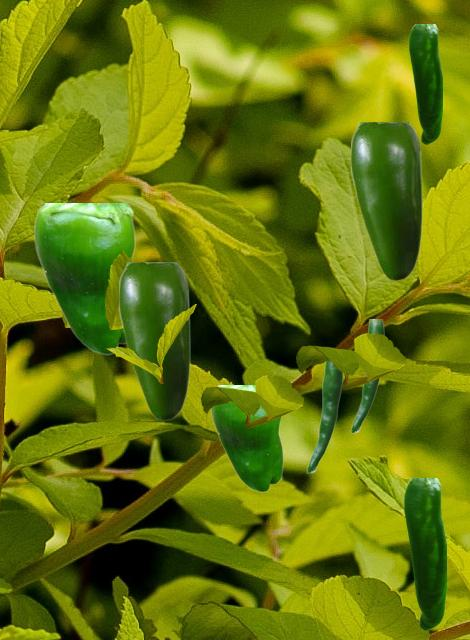green_chili: (33, 203, 136, 354), (351, 122, 421, 280), (119, 262, 189, 420), (210, 385, 282, 491), (404, 478, 445, 629), (306, 361, 341, 472), (409, 24, 441, 143), (350, 319, 383, 432)
